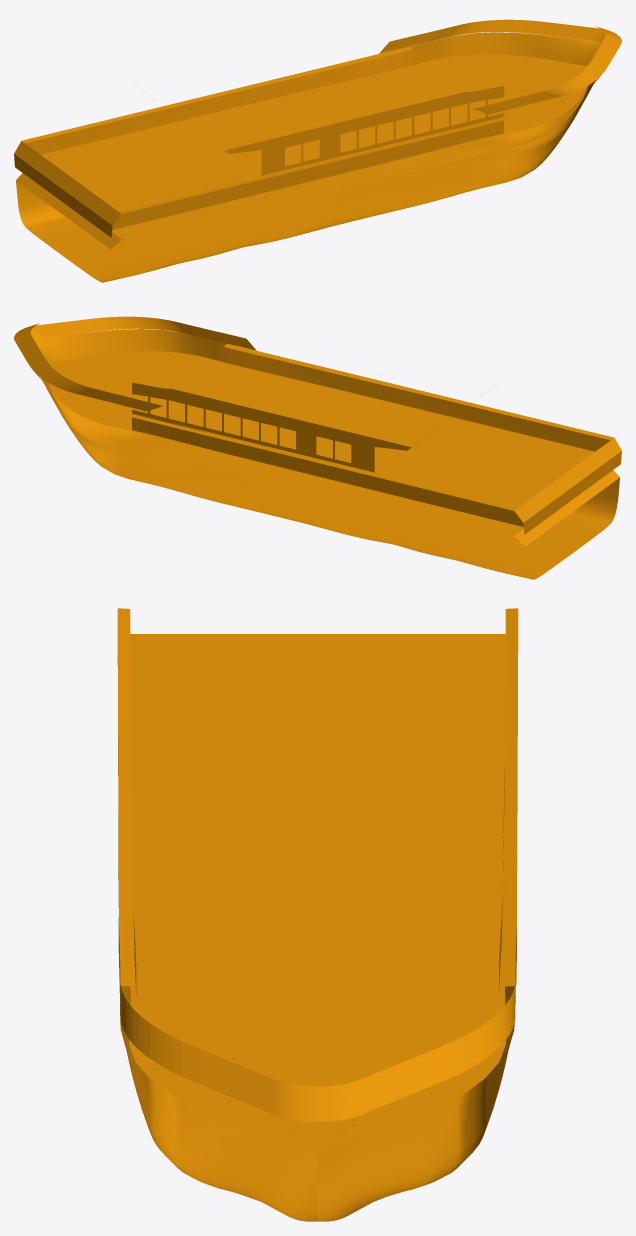
The model's file is 01-Crew-boat-opti.glb.
3 views of the same model, one above another, from view 1: azimuth 30°, elevation 25°; view 2: azimuth 150°, elevation 25°; view 3: azimuth 270°, elevation 25° (orthographic). The views are drawn at different scales.
Parts seen in each view (by area): view 1: Shell.157; view 2: Shell.157; view 3: Shell.157.
Boxes of the visible parts, x1,y1,x2,y2 form: Shell.157: (14, 19, 621, 282); Shell.157: (14, 316, 621, 579); Shell.157: (117, 608, 518, 1221).
Size of the model in its own units: 25.51 by 4.93 by 7.99.
